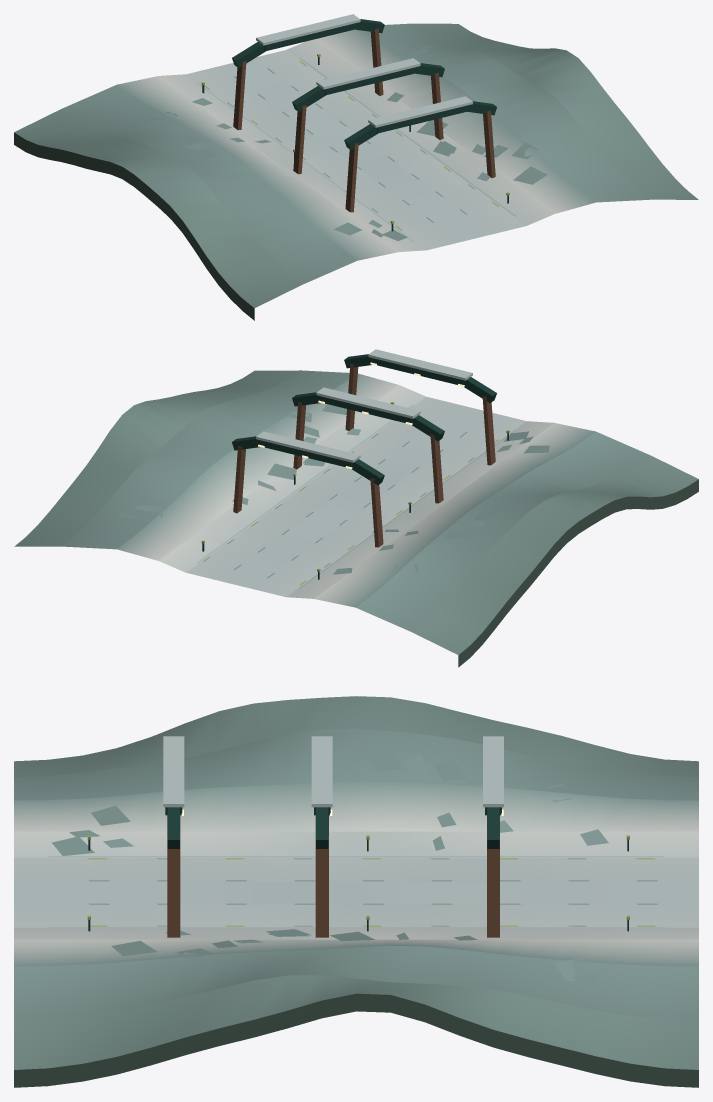
The model's file is 05-ice_tunnel.glb.
3 renders of one model, top to bottom at view 1: azimuth 30°, elevation 25°; view 2: azimuth 150°, elevation 25°; view 3: azimuth 270°, elevation 25°, orthographic. The views are drawn at different scales.
Parts seen in each view (by area): view 1: ice_tunnel; view 2: ice_tunnel; view 3: ice_tunnel.
Part boxes in pixels (x1=…): ice_tunnel: x1=14, y1=14, x2=698, y2=320; ice_tunnel: x1=14, y1=349, x2=698, y2=667; ice_tunnel: x1=14, y1=696, x2=698, y2=1087.
Size of the model in its own units: 32 by 7.89 by 30.
